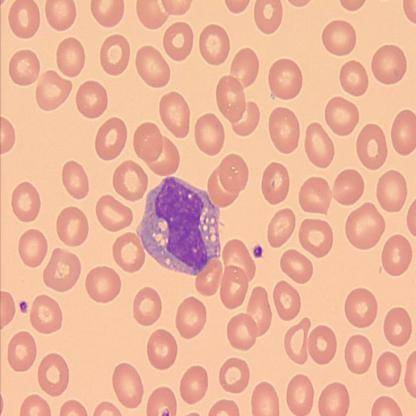Monocyte: (134, 175, 223, 278)
